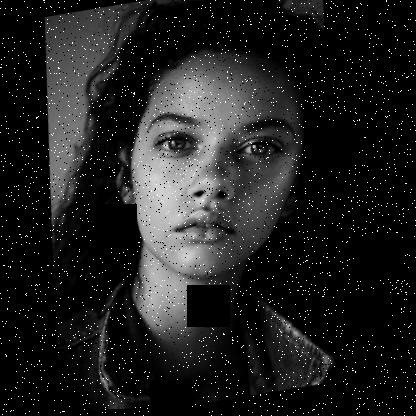Female: (96, 33, 332, 288)
